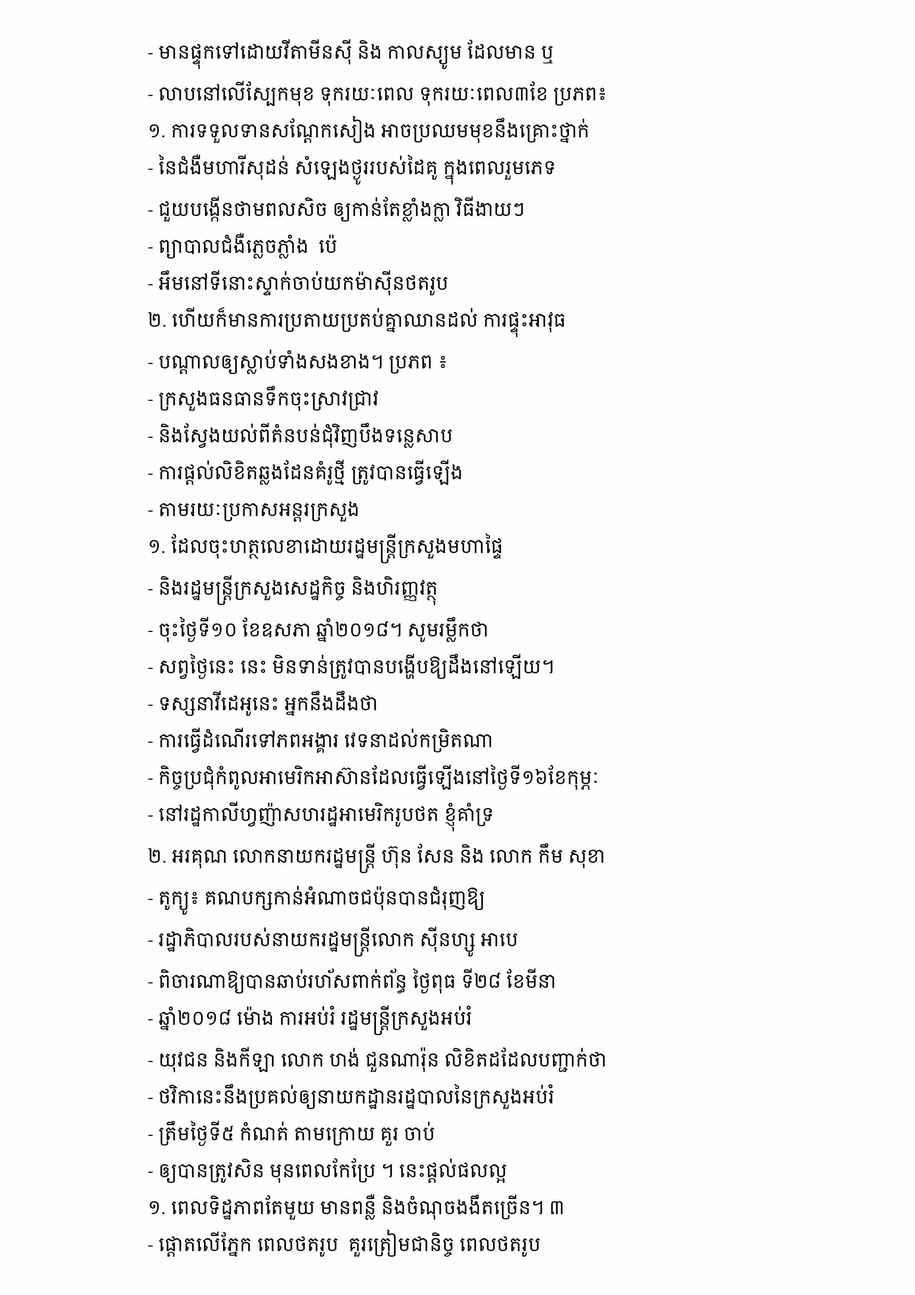text: (148, 843, 610, 873), (148, 154, 561, 185), (148, 307, 571, 337), (148, 39, 559, 69), (148, 116, 595, 143), (148, 81, 612, 106), (148, 1047, 612, 1072), (148, 765, 604, 790), (148, 927, 523, 957), (148, 533, 508, 564), (148, 1194, 570, 1220), (148, 801, 499, 832), (148, 1230, 546, 1257), (148, 968, 561, 994), (148, 654, 559, 679), (148, 1084, 559, 1109), (148, 196, 530, 222), (148, 886, 490, 915), (148, 1005, 477, 1035), (148, 1158, 512, 1183), (148, 575, 443, 605), (148, 728, 498, 753), (148, 617, 494, 642), (148, 460, 468, 485), (148, 270, 453, 296), (148, 423, 458, 448), (148, 350, 453, 374), (148, 1121, 440, 1146), (148, 386, 384, 411), (148, 691, 383, 716), (148, 233, 342, 259), (148, 501, 365, 522)
